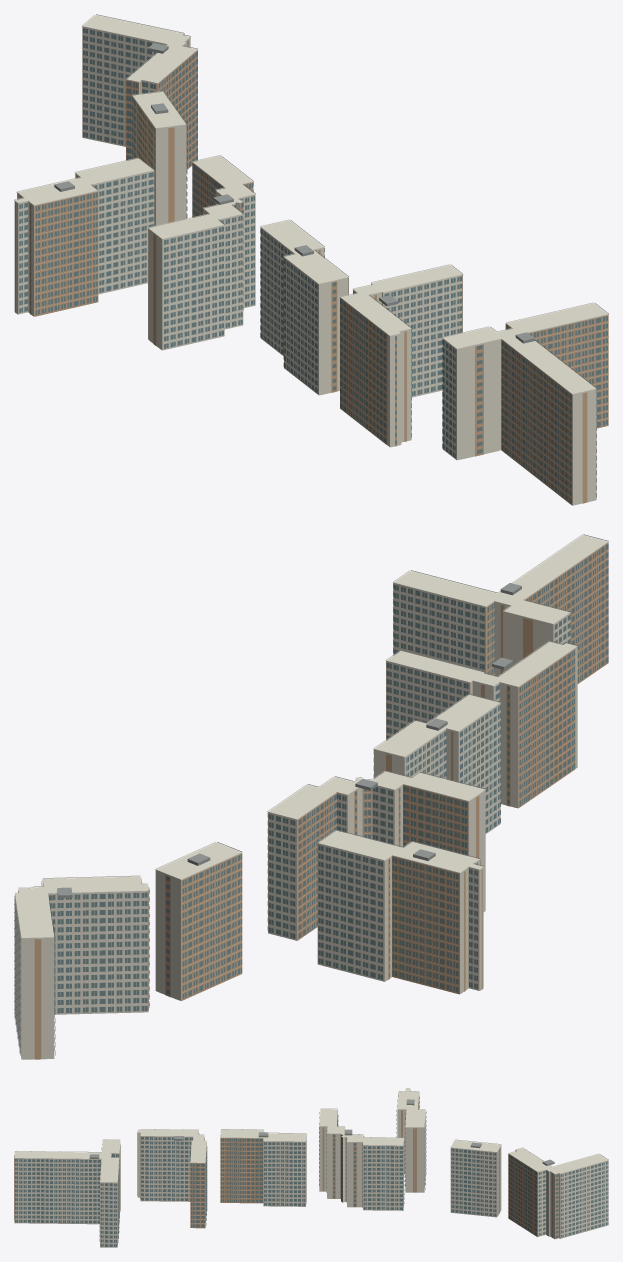
Rendered from representative-a13880406.glb.
3 views of the same model, one above another, from view 1: azimuth 30°, elevation 25°; view 2: azimuth 150°, elevation 25°; view 3: azimuth 270°, elevation 25° (orthographic). The views are drawn at different scales.
Parts seen in each view (by area): view 1: A13880406_wall001, A13880406_glass001, A13880406_accent001, A13880406_trim001, A13880406_roof001; view 2: A13880406_wall001, A13880406_glass001, A13880406_accent001, A13880406_trim001, A13880406_roof001; view 3: A13880406_wall001, A13880406_glass001, A13880406_accent001, A13880406_trim001, A13880406_roof001.
Part boxes in pixels (x1,y1,x2,y2): A13880406_wall001: (14, 15, 607, 505); A13880406_glass001: (19, 28, 607, 503); A13880406_accent001: (15, 40, 608, 505); A13880406_trim001: (14, 14, 608, 502); A13880406_roof001: (54, 43, 534, 343); A13880406_wall001: (15, 535, 607, 1059); A13880406_glass001: (14, 544, 608, 1055); A13880406_accent001: (18, 542, 608, 1059); A13880406_trim001: (16, 534, 608, 1012); A13880406_roof001: (57, 583, 521, 898); A13880406_wall001: (14, 1088, 608, 1247); A13880406_glass001: (15, 1090, 608, 1246); A13880406_accent001: (14, 1094, 559, 1239); A13880406_trim001: (14, 1088, 608, 1246); A13880406_roof001: (89, 1099, 554, 1165).
Bounding box in the file's own units: 140 × 46.1 × 373.
